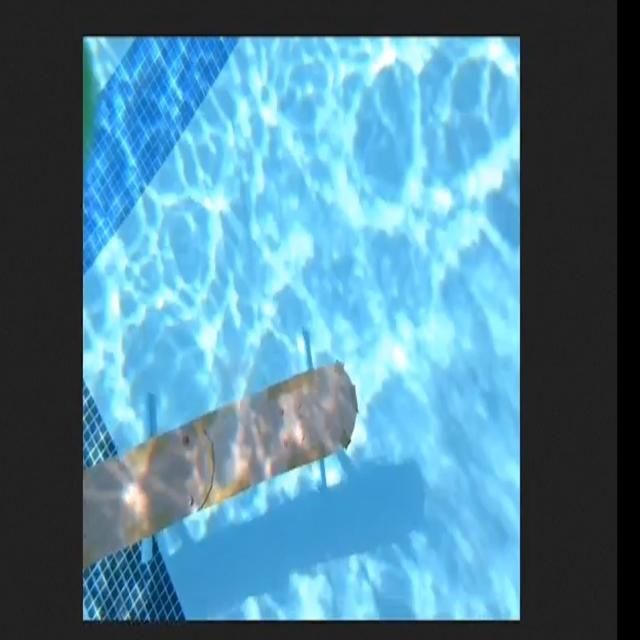Path: (82, 327, 363, 592)
